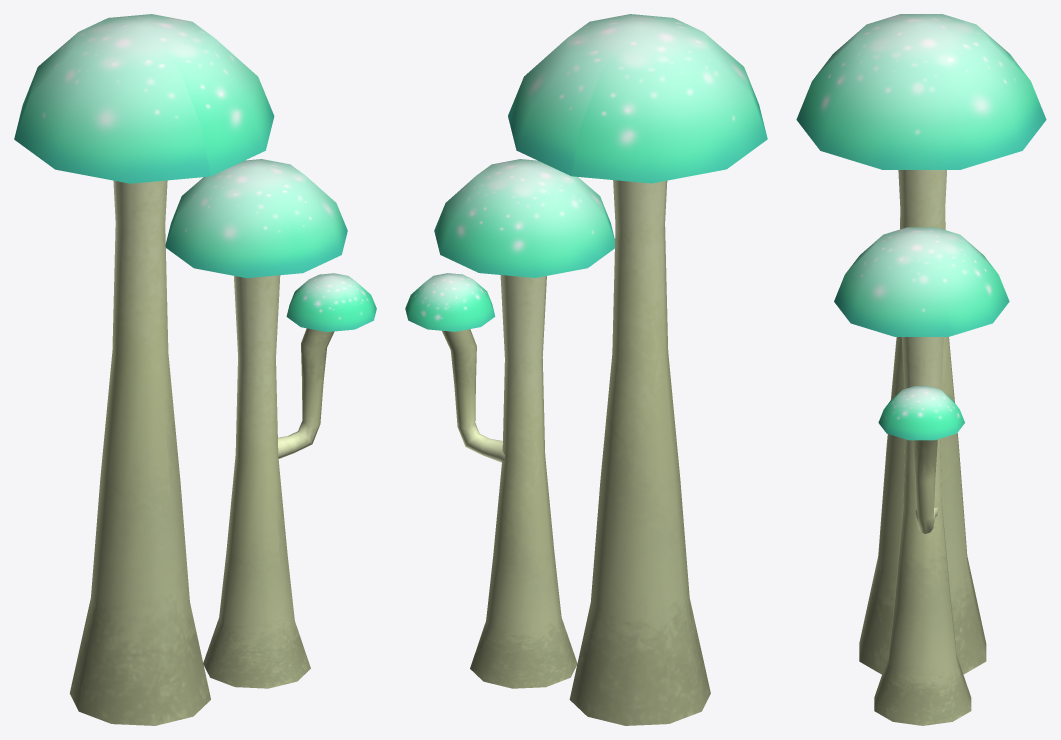
Rendered from Env_mesh_mushroom_002.FBX.
3 renders of one model, left to right at view 1: azimuth 30°, elevation 25°; view 2: azimuth 150°, elevation 25°; view 3: azimuth 270°, elevation 25°, orthographic. The views are drawn at different scales.
Parts seen in each view (by area): view 1: Cylinder043; view 2: Cylinder043; view 3: Cylinder043.
Boxes of the visible parts, box(x1,y1,x2,y2) form: Cylinder043: box(14, 14, 376, 725); Cylinder043: box(405, 14, 767, 725); Cylinder043: box(796, 14, 1046, 725).
Bounding box in the file's own units: 42.57 × 81.25 × 29.27.
